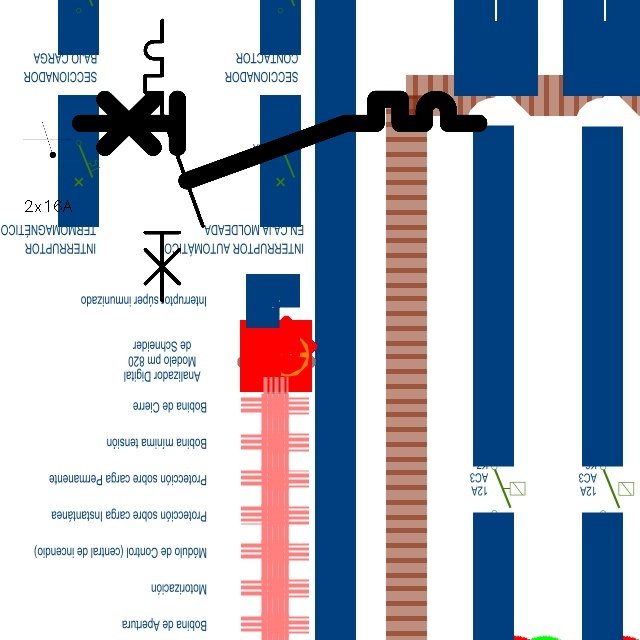interruptor_termomagnetico: (70, 89, 488, 191), (138, 13, 210, 308)
